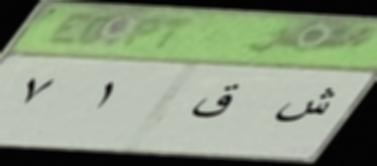1: (88, 74, 118, 114)
7: (17, 72, 56, 111)
qaaf: (190, 80, 241, 130)
sheen: (269, 77, 336, 130)
